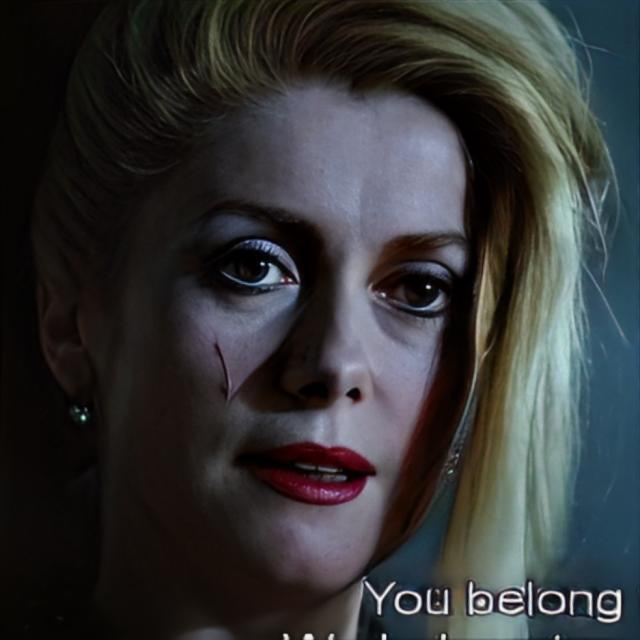fear: (108, 81, 480, 604)
